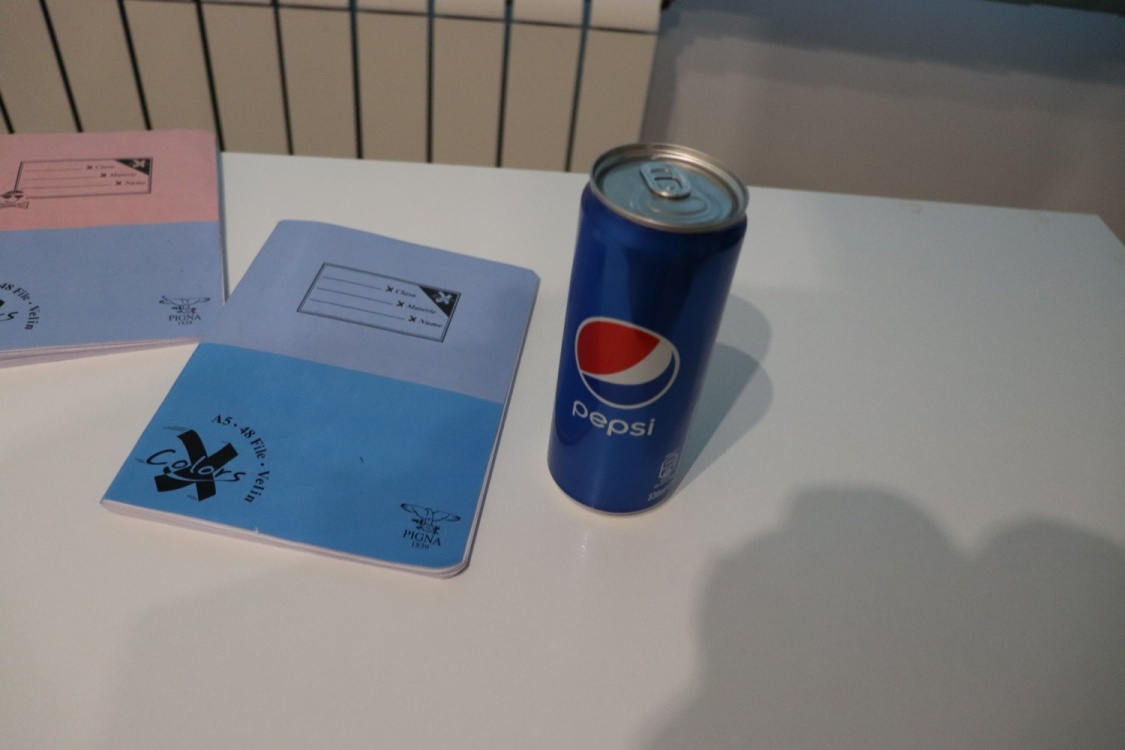pepsi: (542, 137, 756, 535)
